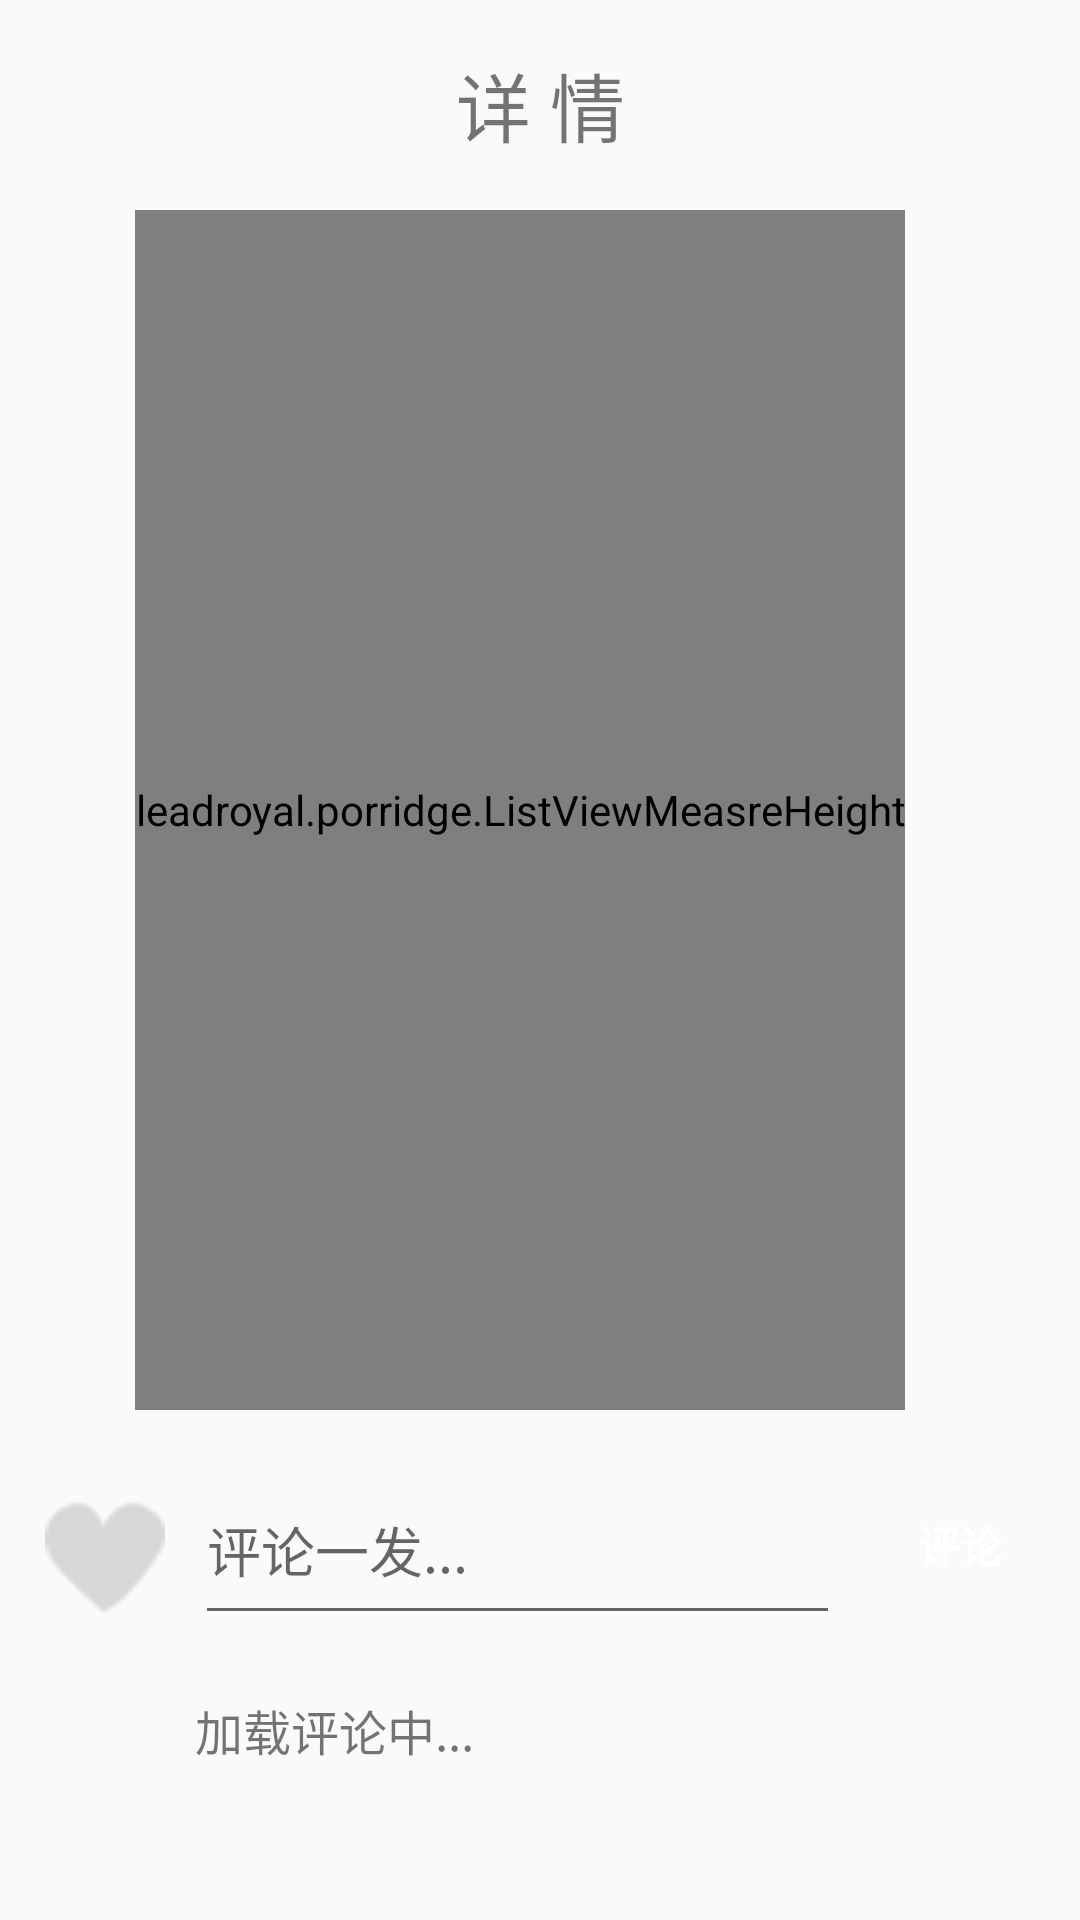

Point at icon controls on the screen. Image size 1080×1920, points as (x,y).
heart: (105,1557)
